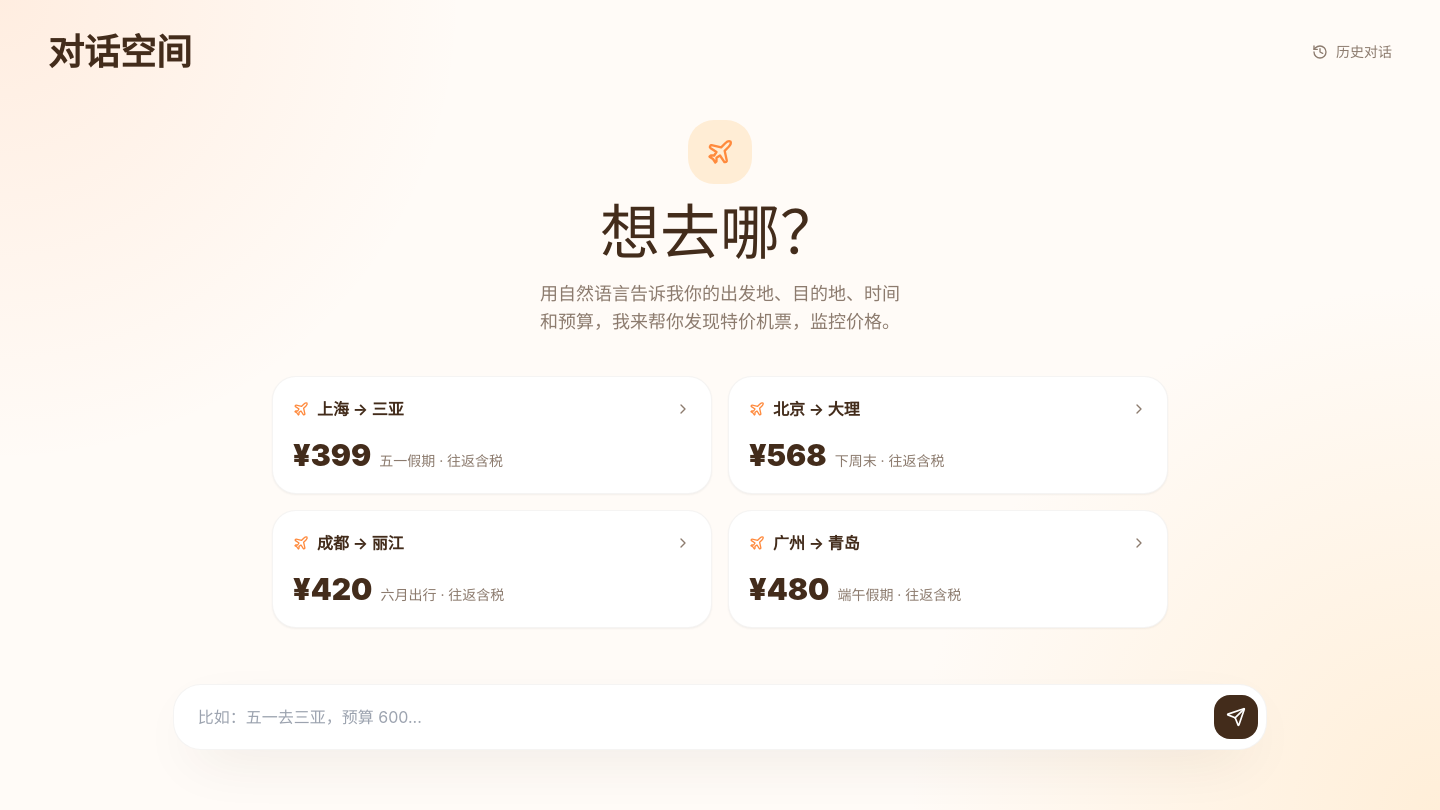
Test case: uses the deal currency in fallback assistant copy
The image size is (1440, 810).
Type "上海到新加坡" into the field at (698, 717), box x1=182 y1=693 x2=1214 y2=741
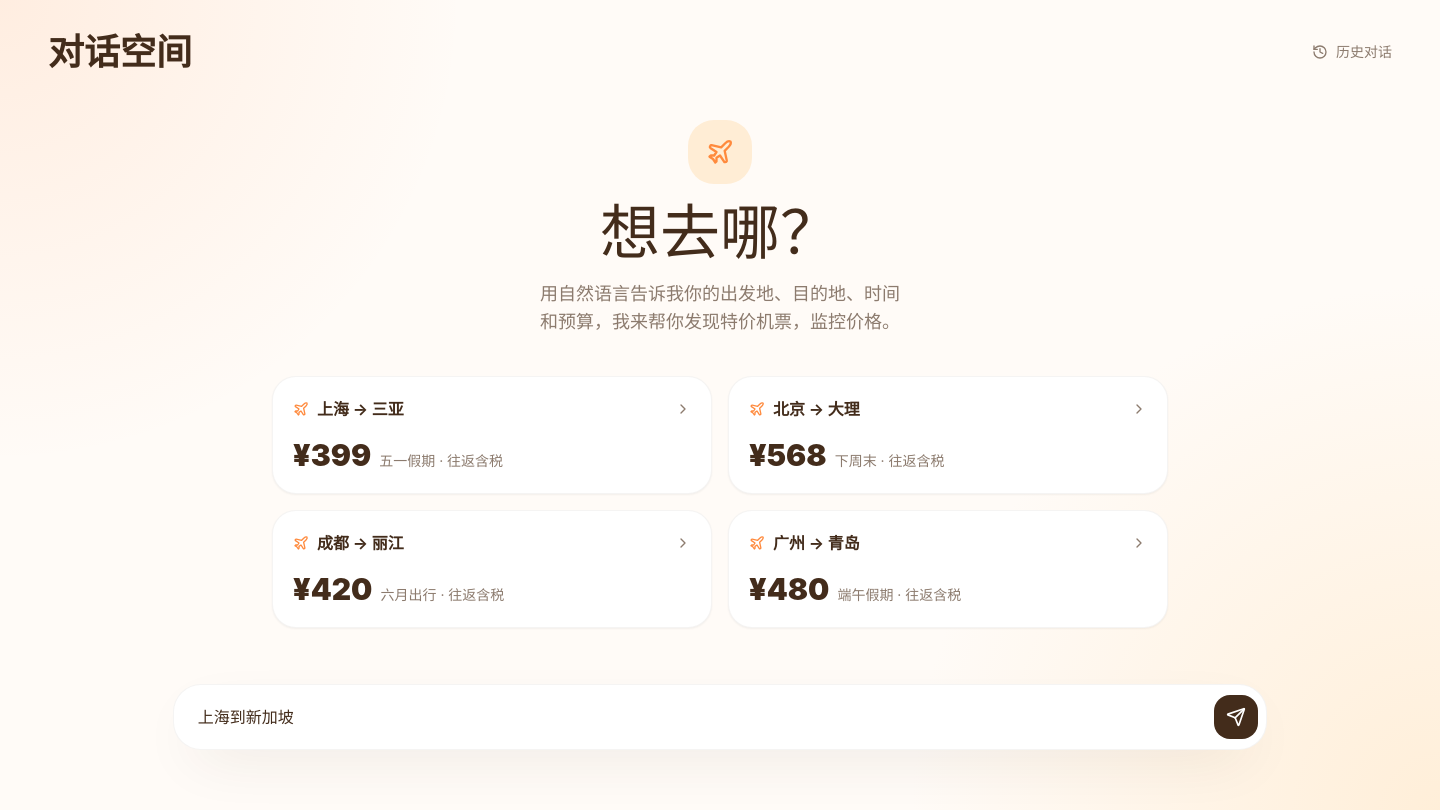
Press Enter in the field, box x1=182 y1=693 x2=1214 y2=741
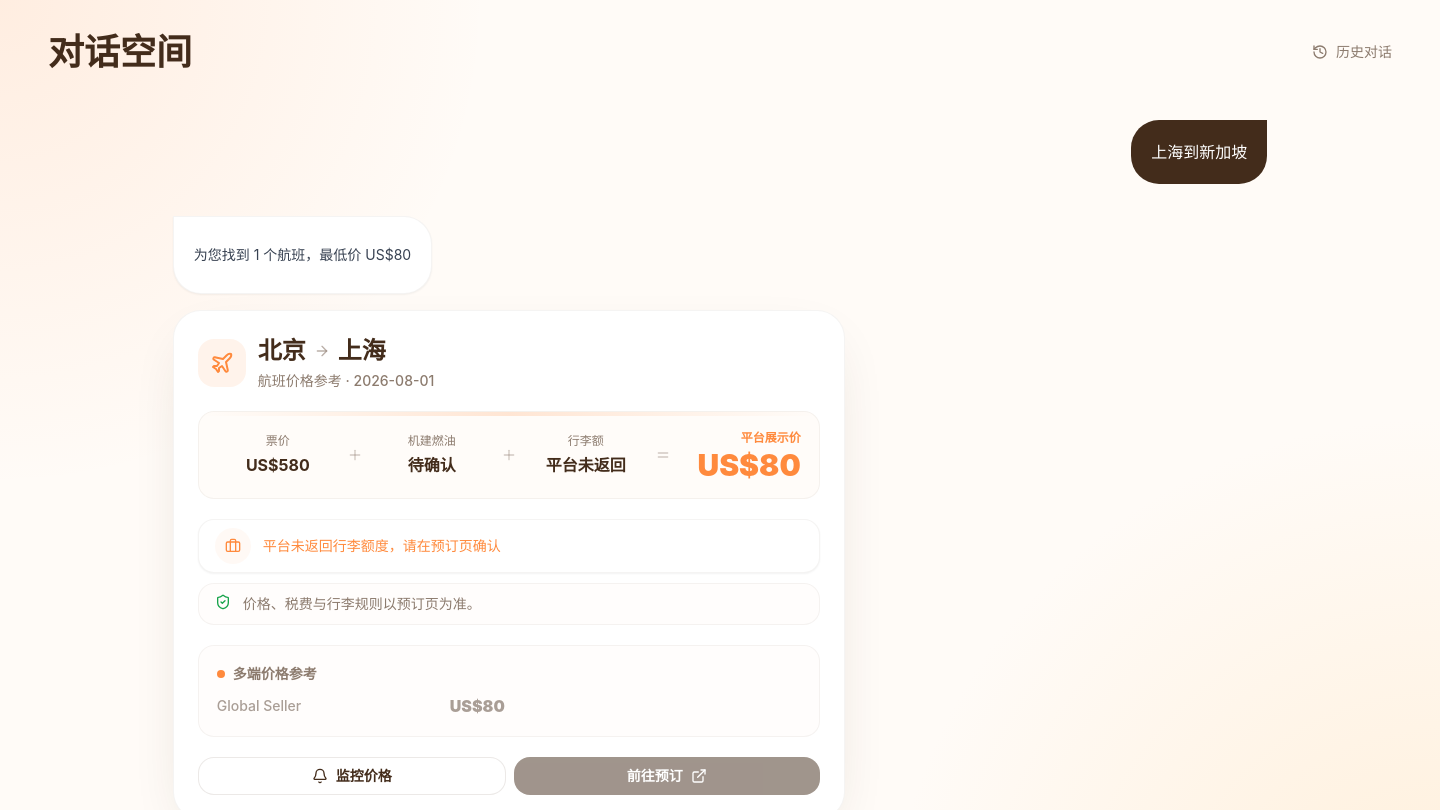
Now the text "为您找到 1 个航班，最低价 US$80" is shown, box x1=194 y1=243 x2=411 y2=267
